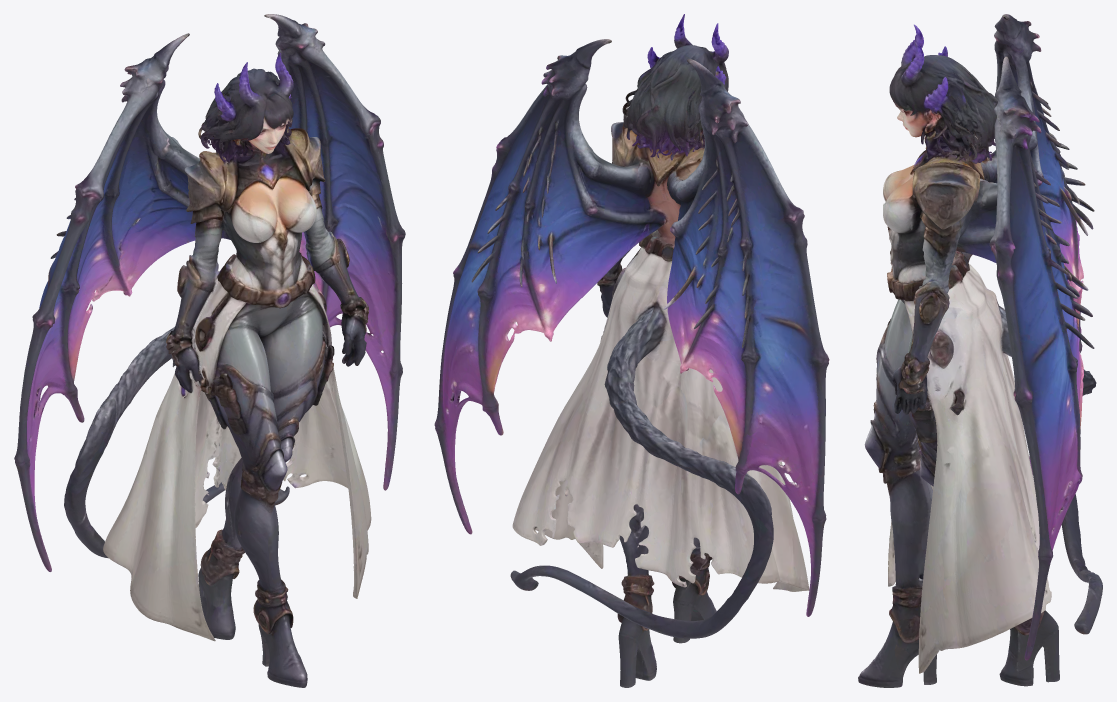
The model's file is demon-queen.glb.
3 views of the same model, side by side, from view 1: azimuth 30°, elevation 25°; view 2: azimuth 150°, elevation 25°; view 3: azimuth 270°, elevation 25° (orthographic). The views are drawn at different scales.
Visible parts, largest first — view 1: Object_4; view 2: Object_4; view 3: Object_4.
Boxes of the visible parts, box(x1,y1,x2,y2) form: Object_4: box(14, 14, 405, 687); Object_4: box(434, 14, 829, 687); Object_4: box(858, 14, 1102, 687).
Bounding box in the file's own units: 1.24 × 1.9 × 0.6552.
1 material, 1 textured.
